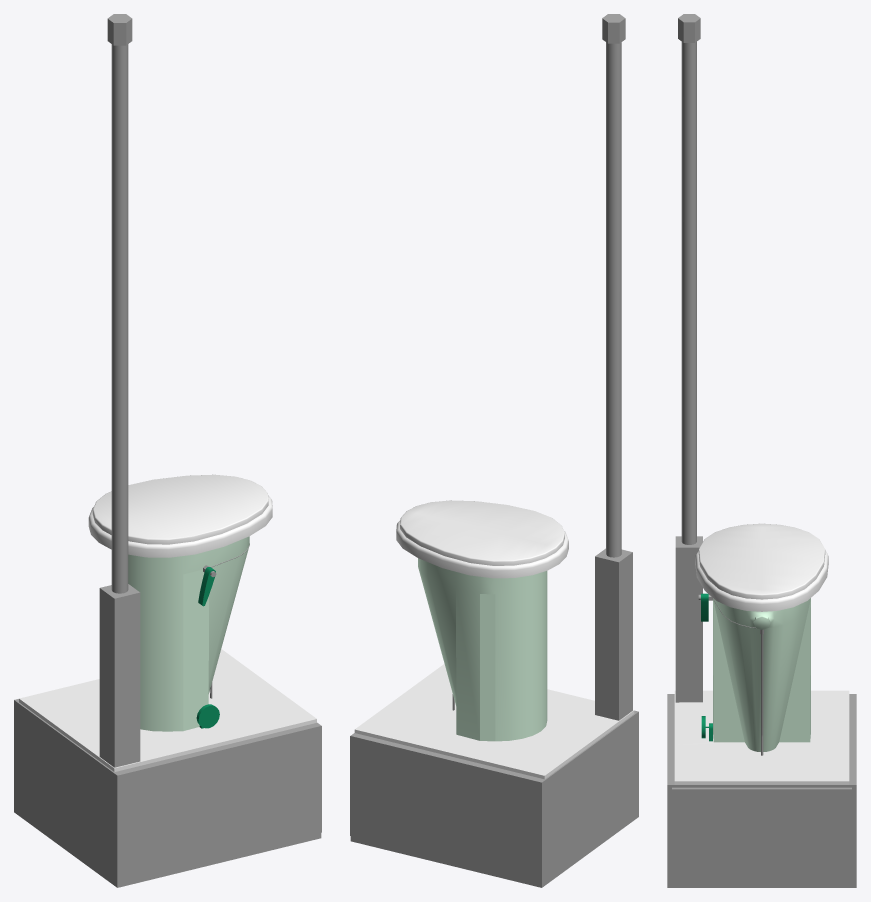
File: Toilet_Mark2.glb
3 views of the same model, side by side, from view 1: azimuth 30°, elevation 25°; view 2: azimuth 150°, elevation 25°; view 3: azimuth 270°, elevation 25° (orthographic). The views are drawn at different scales.
Parts seen in each view (by area): view 1: Base, Toilet_Visible; view 2: Base, Toilet_Visible; view 3: Toilet_Visible, Base.
Part boxes in pixels (x1,y1,x2,y2): Base: [14, 14, 321, 887]; Toilet_Visible: [19, 474, 316, 771]; Base: [350, 14, 638, 887]; Toilet_Visible: [354, 500, 634, 779]; Toilet_Visible: [674, 523, 849, 784]; Base: [667, 14, 856, 887].
Size of the model in its own units: 0.5784 by 2.29 by 0.5.
